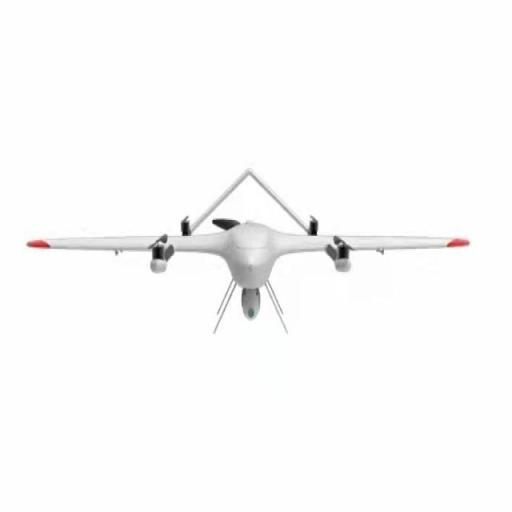uav: (21, 165, 472, 327)
